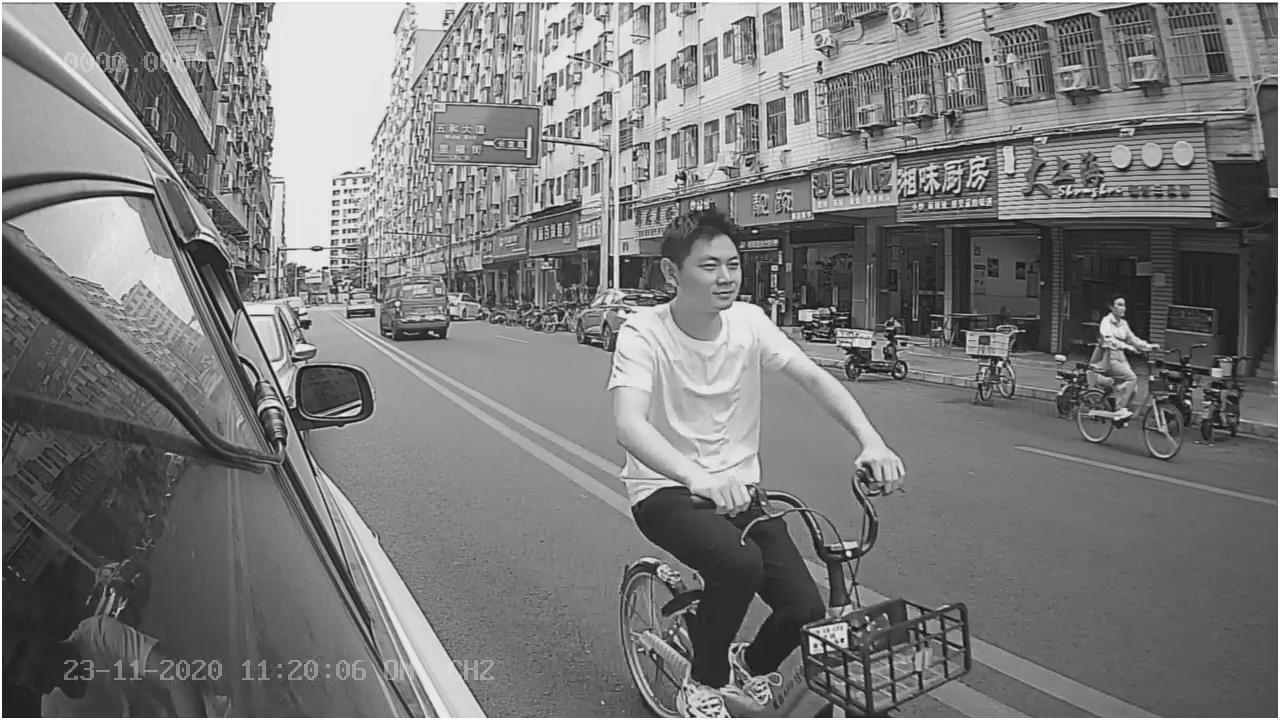person: (592, 204, 918, 494)
